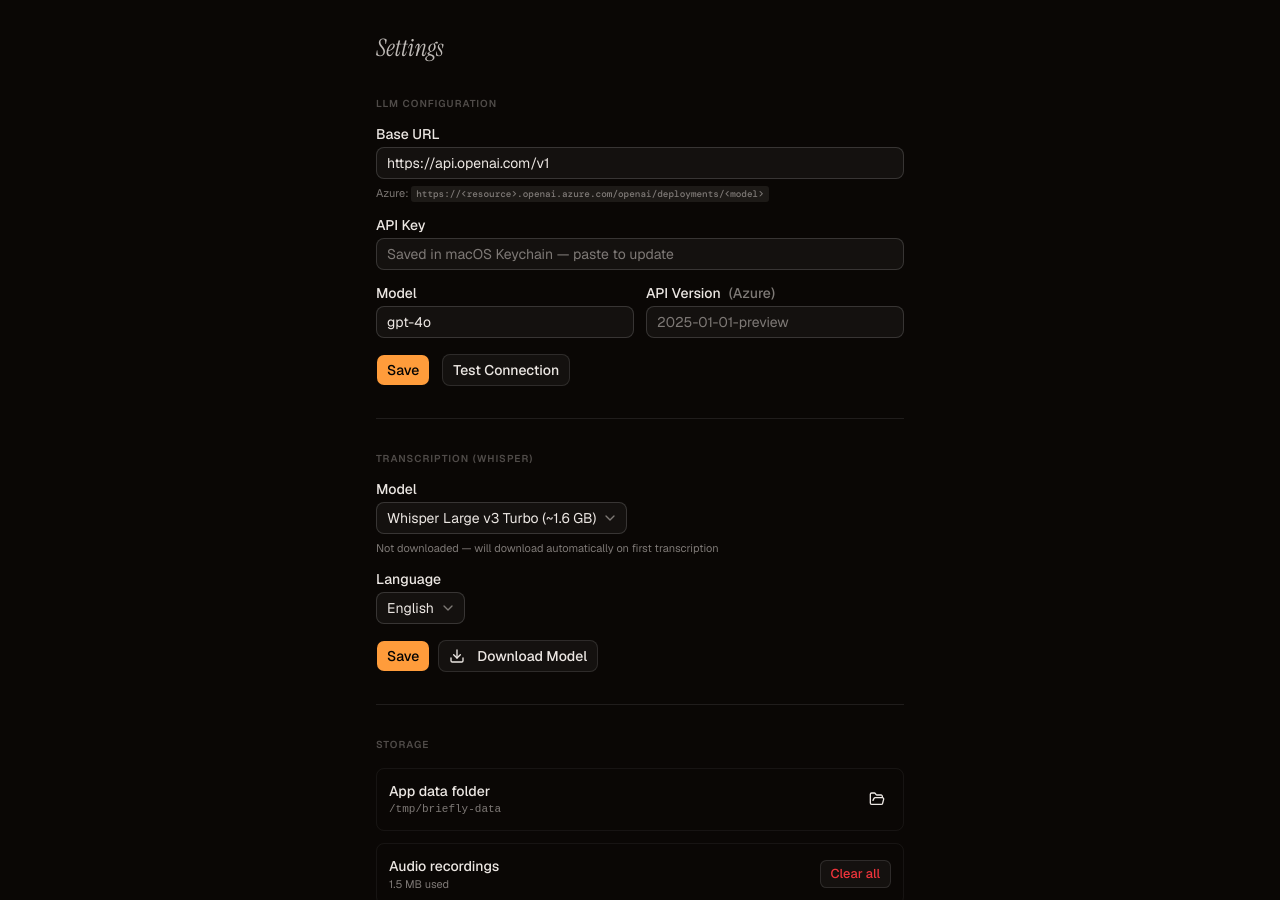
Test case: Settings — clear-all dialog › opens the confirmation dialog and cancels without deleting
What coordinates should you click on to do the following:
click the button "Clear all"
I would click on:
 (855, 874)
Its box is [820,860,891,888].
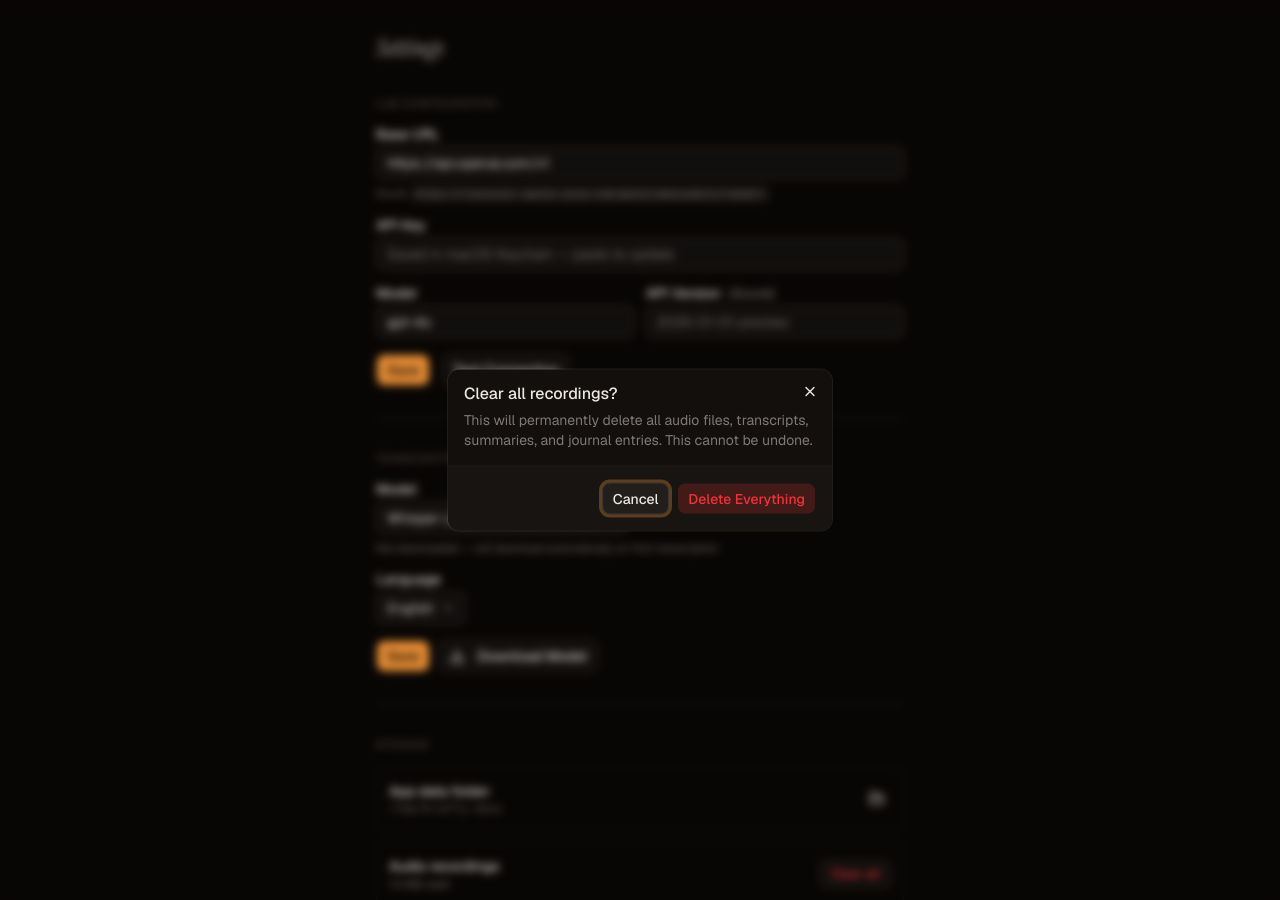
Now the heading "Clear all recordings?" is shown, box [464,382,618,404]
What coordinates should you click on to do the following:
click the button "Cancel"
I would click on:
 (636, 498)
Its box is [602,482,669,514].
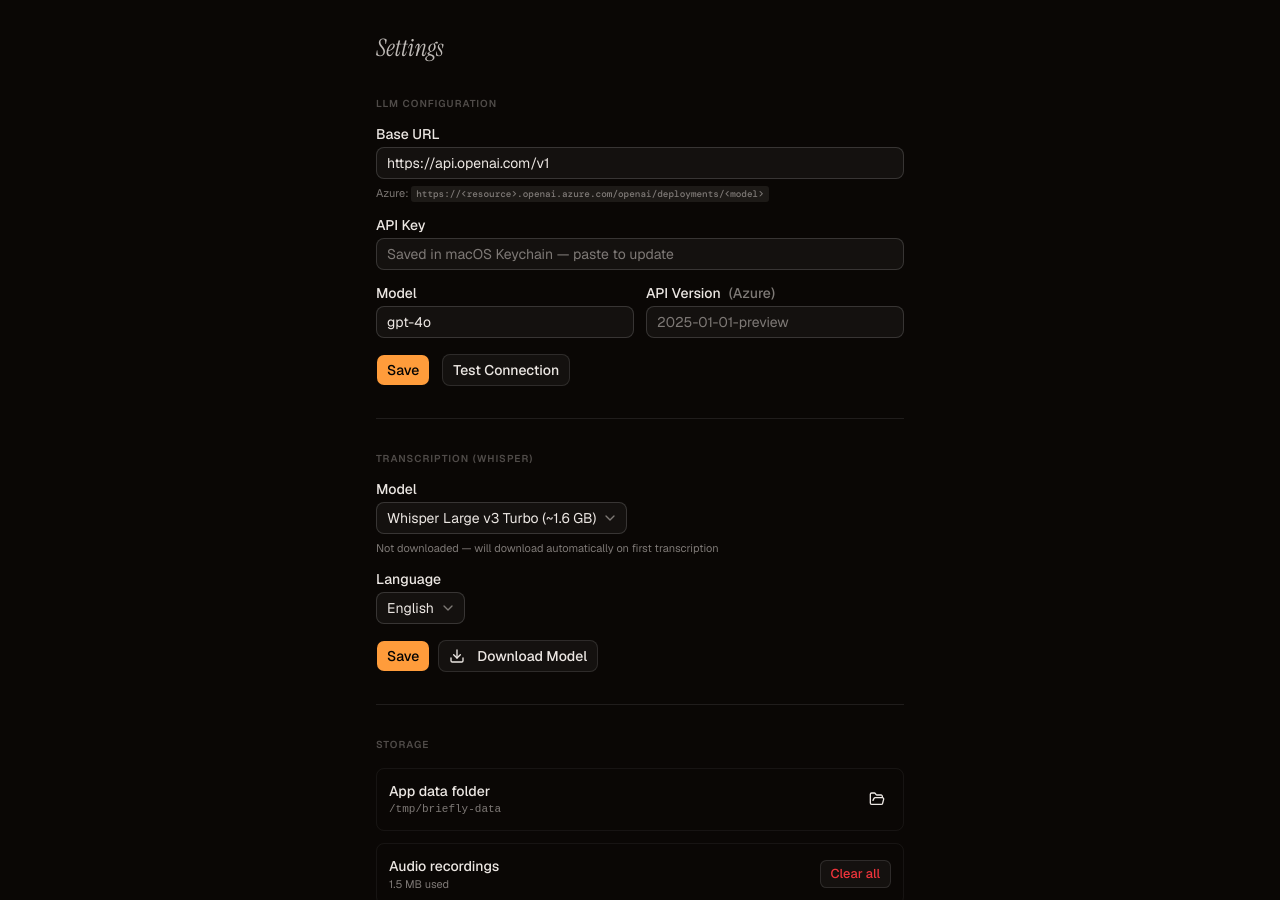
Now the heading "Clear all recordings?" is gone
